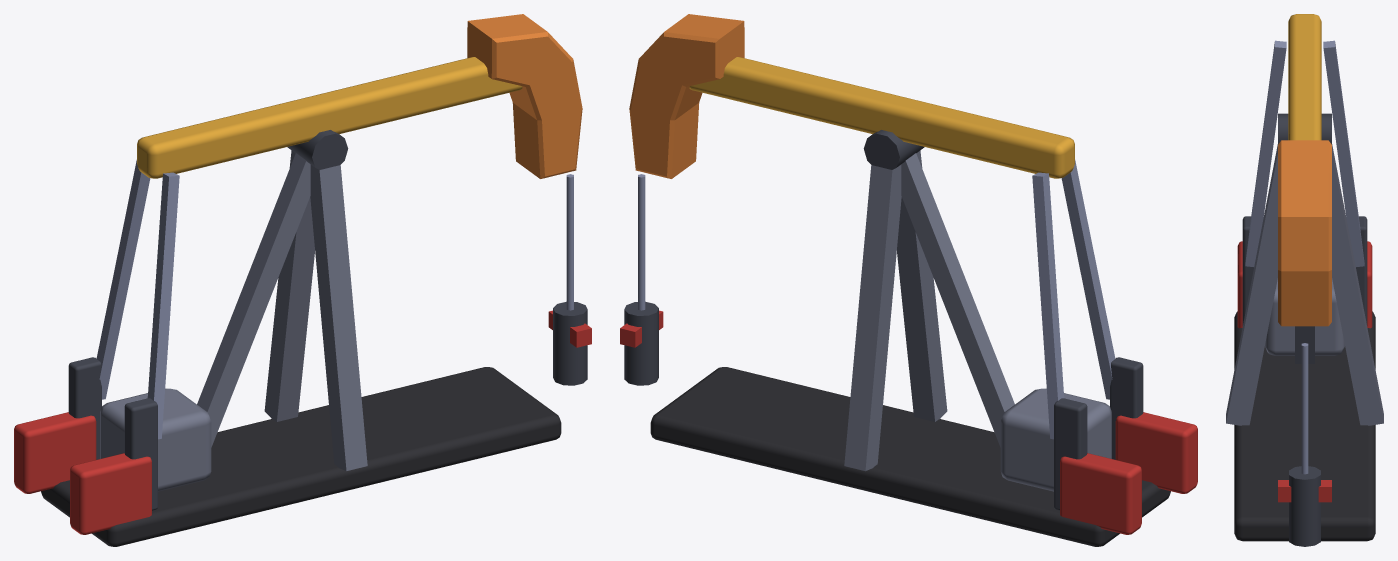
Rendered from bomba-petroleo.glb.
The picture shows the model from 3 angles, left to right: view 1: azimuth 30°, elevation 25°; view 2: azimuth 150°, elevation 25°; view 3: azimuth 270°, elevation 25°; orthographic projection. The views are drawn at different scales.
Visible parts, largest first — view 1: modelo, balancim; view 2: modelo, balancim; view 3: modelo, balancim.
Boxes of the visible parts, <box> form: modelo: <box>14,130,591,546</box>; balancim: <box>137,14,582,178</box>; modelo: <box>620,130,1197,546</box>; balancim: <box>629,14,1074,178</box>; modelo: <box>1226,40,1383,546</box>; balancim: <box>1278,14,1331,326</box>.
Bounding box in the file's own units: 2.45 × 1.72 × 0.6455.
